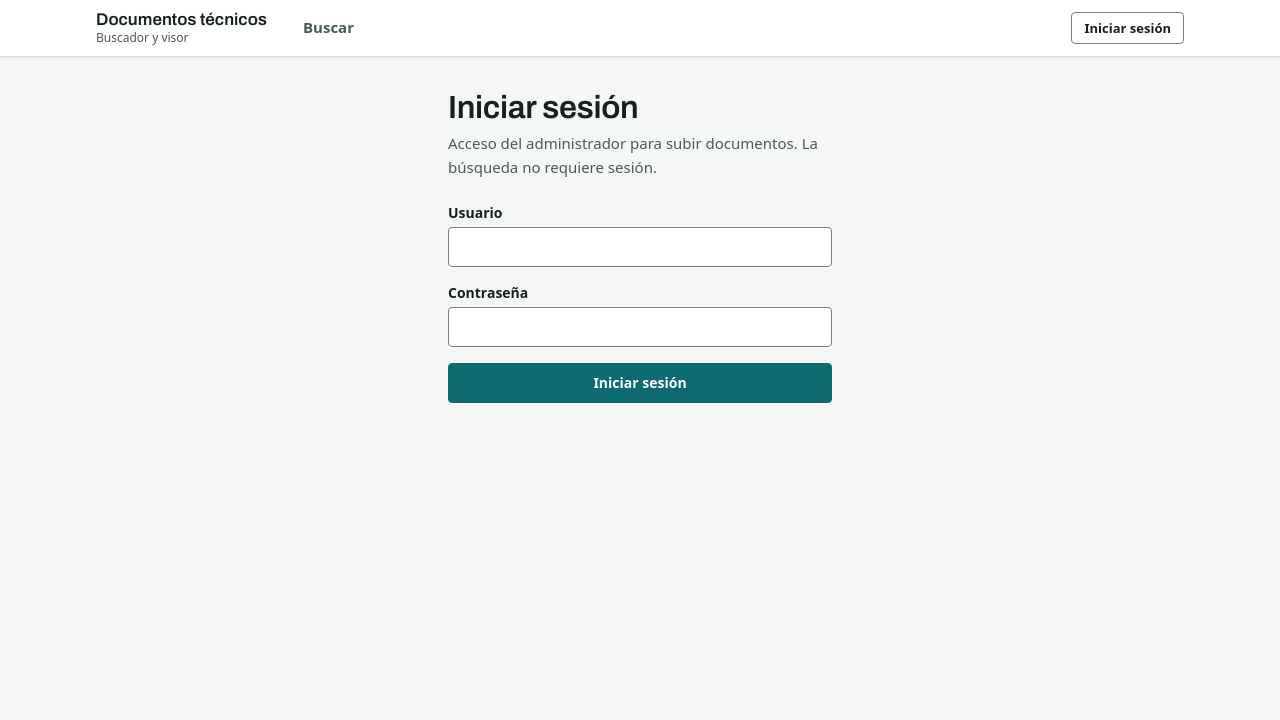
it: Sesión del administrador › con credenciales incorrectas muestra el error de la API
The image size is (1280, 720).
Type "admin" into the field labelled "Usuario" at x=640, y=247, box left=448, top=227, right=832, bottom=267
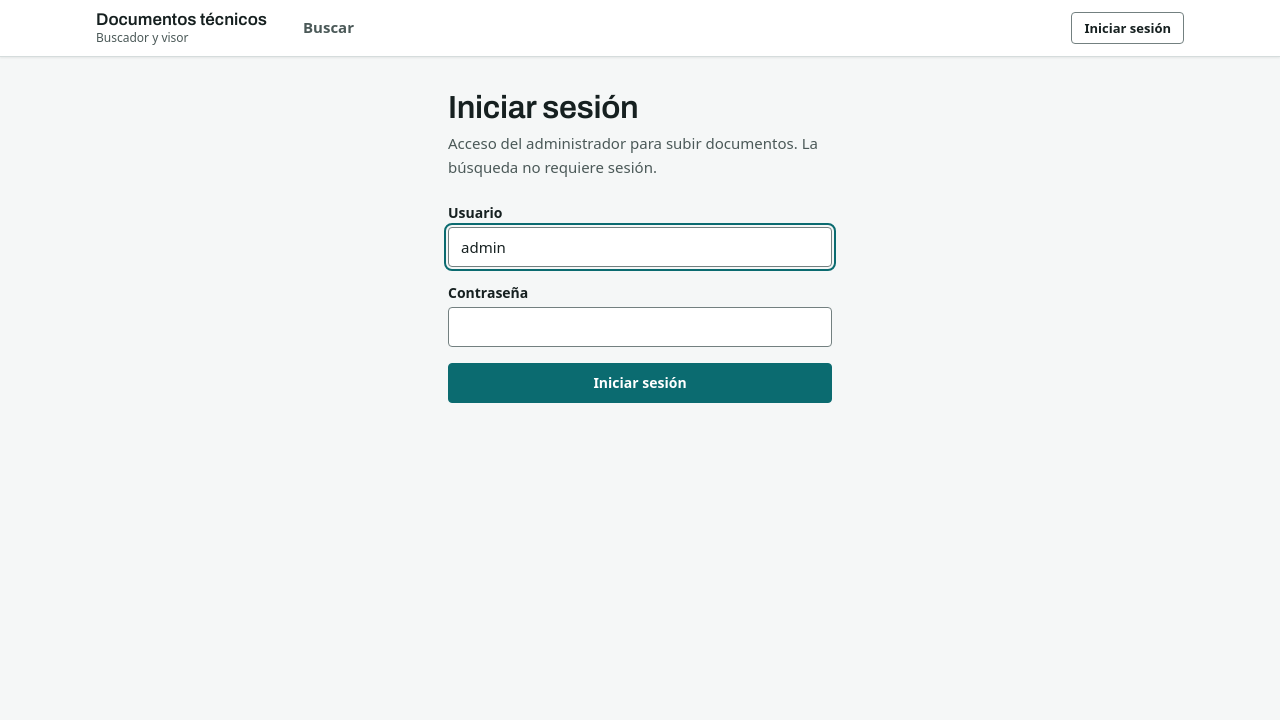
Type "mala" into the password field labelled "Contraseña" at x=640, y=327, box left=448, top=307, right=832, bottom=347
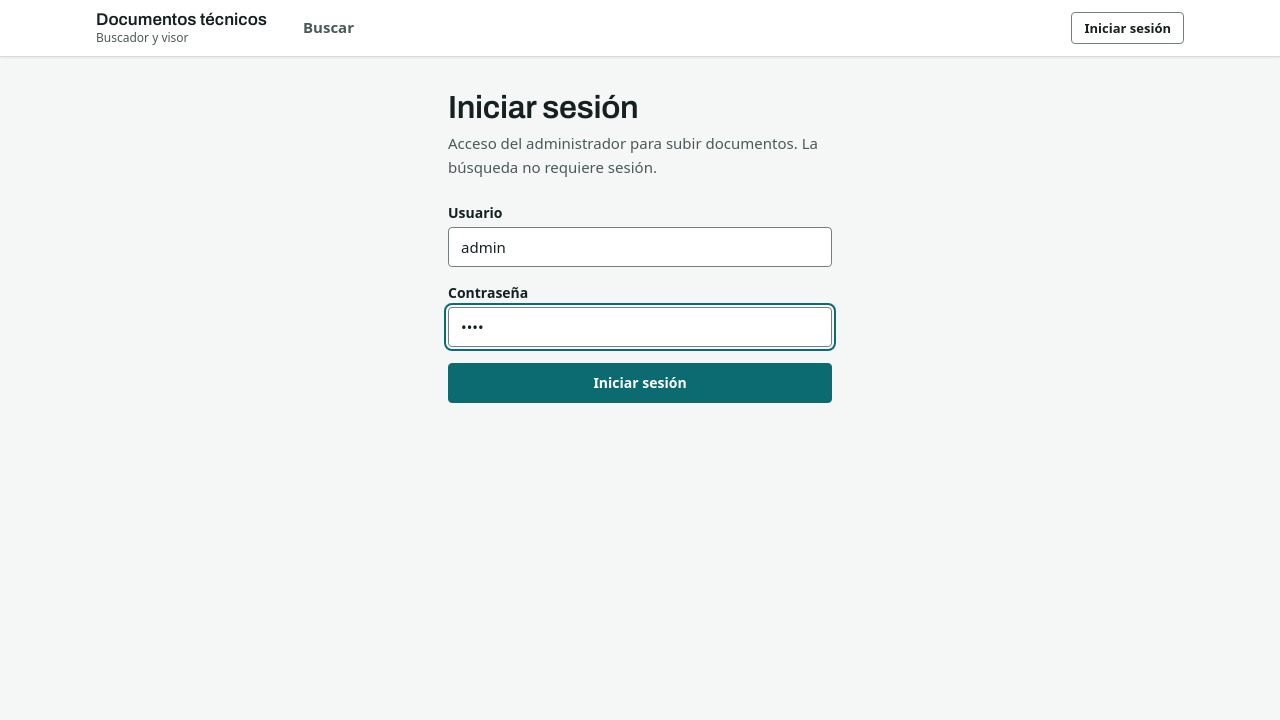
Click the button "Iniciar sesión" at x=640, y=383, box left=448, top=363, right=832, bottom=403
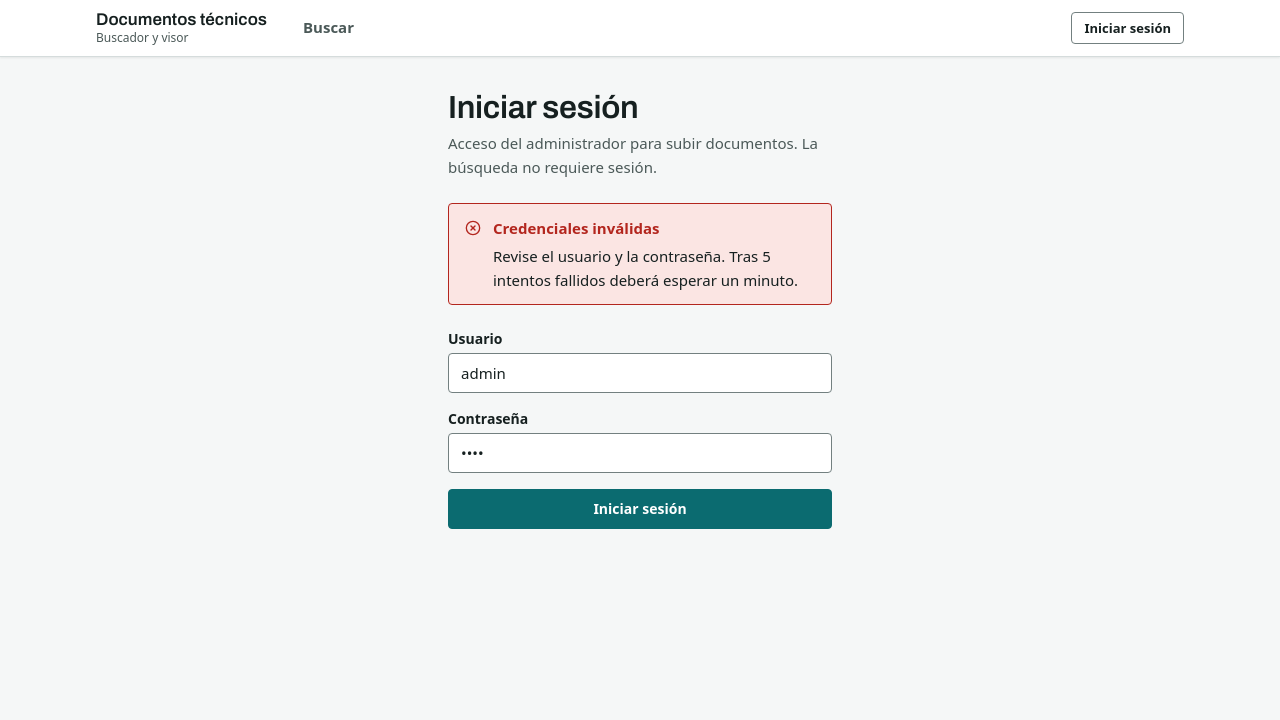
Now the message shows "Credenciales inválidas", box left=493, top=218, right=660, bottom=238
Now the message shows "Revise el usuario y la contraseña", box left=493, top=246, right=798, bottom=290
